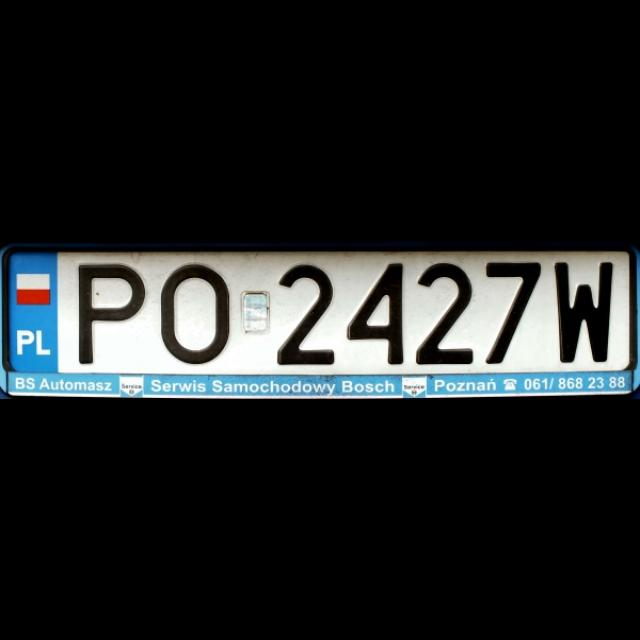pl_license_plate: (8, 250, 630, 368)
